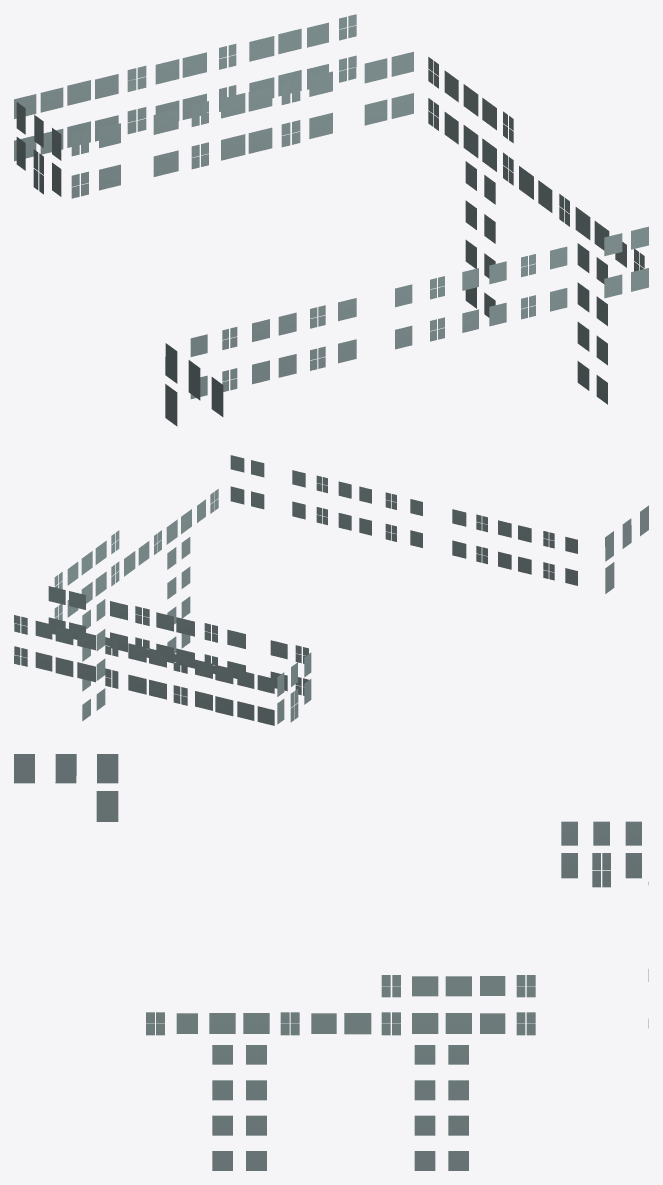
Rendered from okna.fbx.
3 views of the same model, one above another, from view 1: azimuth 30°, elevation 25°; view 2: azimuth 150°, elevation 25°; view 3: azimuth 270°, elevation 25° (orthographic). The views are drawn at different scales.
Visible parts, largest first — view 1: Cube.176, Cube.001; view 2: Cube.176, Cube.001; view 3: Cube.176, Cube.001.
Boxes of the visible parts, x1,y1,x2,y2 form: Cube.176: [14, 14, 648, 426]; Cube.001: [465, 161, 607, 404]; Cube.176: [14, 455, 648, 725]; Cube.001: [82, 537, 190, 721]; Cube.176: [14, 754, 648, 1035]; Cube.001: [212, 1045, 468, 1170].
Bounding box in the file's own units: 10113 × 4317 × 12468.
